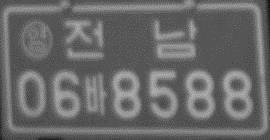0: (17, 69, 46, 119)
5: (147, 66, 179, 120)
6: (51, 67, 81, 119)
8: (183, 68, 216, 119), (222, 68, 253, 120), (111, 69, 142, 119)
바: (83, 71, 108, 117)
영: (20, 19, 54, 60)
전남_D: (62, 17, 200, 61)
